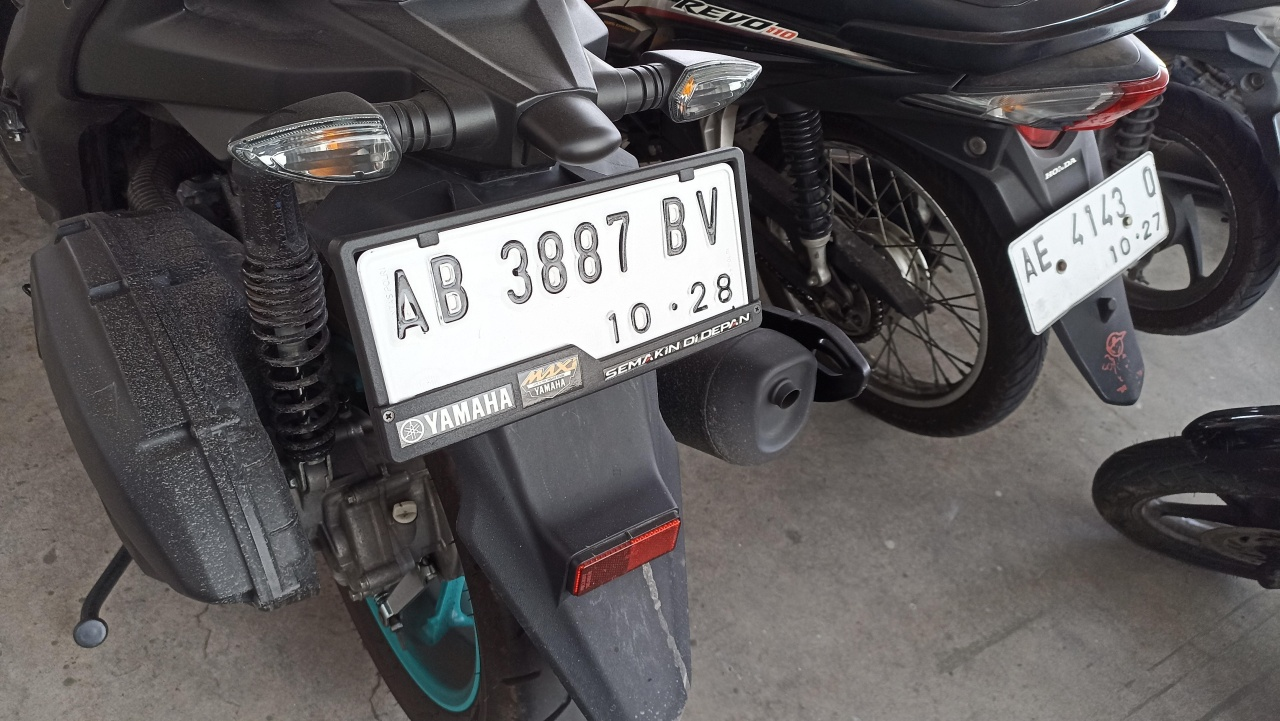plate: (351, 154, 759, 457), (1007, 152, 1170, 338)
